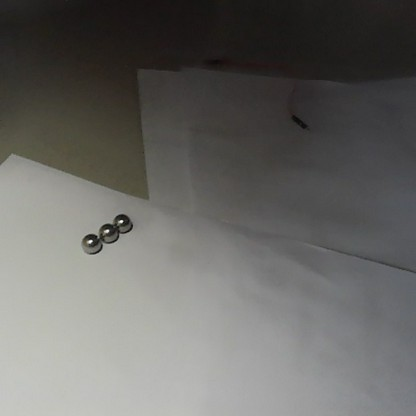ironball: (96, 221, 119, 246), (79, 232, 101, 255), (113, 211, 135, 233)
